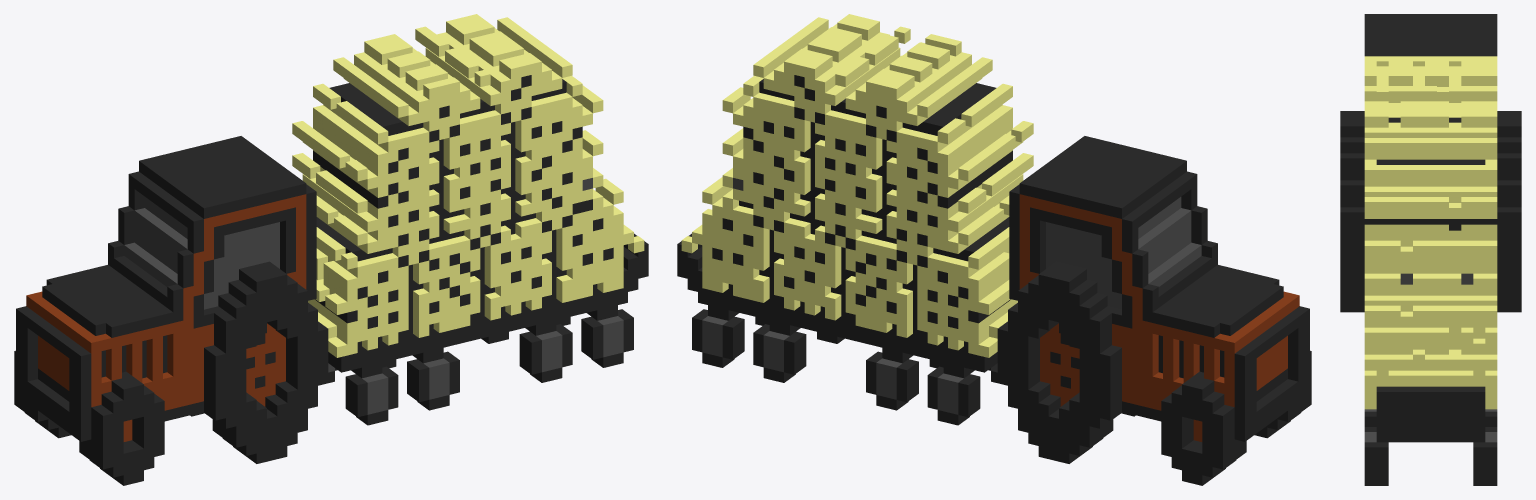
Rendered from tractor.obj.
The picture shows the model from 3 angles, left to right: view 1: azimuth 30°, elevation 25°; view 2: azimuth 150°, elevation 25°; view 3: azimuth 270°, elevation 25°; orthographic projection. The views are drawn at different scales.
Size of the model in its own units: 5.6 by 3 by 1.5.
Materials: 1 (1 with a texture image).
